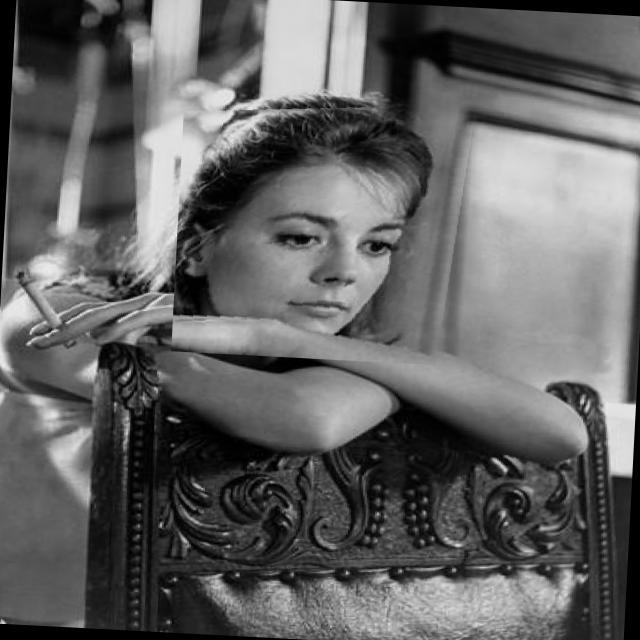cigarette: (0, 246, 84, 363)
